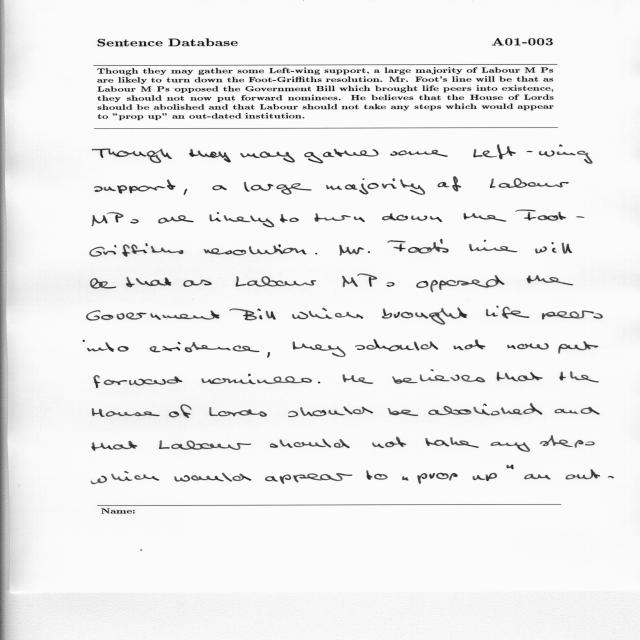word: (473, 145, 593, 164), (388, 240, 518, 254), (326, 178, 425, 195), (382, 307, 467, 325), (416, 275, 505, 292), (87, 310, 220, 321), (392, 369, 485, 384), (429, 404, 543, 416), (90, 243, 183, 257), (95, 179, 176, 194), (94, 375, 182, 388), (204, 244, 307, 255), (92, 149, 172, 163), (201, 374, 312, 384), (150, 342, 260, 352), (304, 149, 379, 163), (355, 340, 438, 352), (210, 212, 275, 227), (265, 473, 352, 484), (288, 406, 373, 417), (159, 440, 251, 450), (244, 182, 312, 195), (91, 471, 159, 484), (236, 276, 316, 287), (293, 341, 346, 357), (490, 178, 569, 188), (292, 308, 363, 319), (515, 210, 585, 221), (270, 439, 350, 448), (540, 435, 594, 448), (175, 473, 252, 482), (342, 274, 395, 287), (92, 212, 139, 226), (92, 408, 160, 417), (240, 152, 295, 163), (425, 437, 479, 448), (209, 407, 267, 417), (486, 306, 529, 319), (230, 309, 276, 321), (83, 340, 129, 352), (542, 311, 603, 320), (189, 149, 231, 162), (382, 213, 442, 222), (566, 469, 614, 480), (558, 341, 598, 354), (527, 275, 573, 285), (314, 213, 365, 222), (417, 473, 458, 484), (126, 277, 171, 287), (92, 441, 137, 451), (535, 242, 572, 254), (559, 372, 599, 383), (497, 372, 543, 381), (390, 150, 448, 157), (491, 442, 530, 452), (464, 213, 507, 222), (372, 437, 406, 448), (555, 407, 600, 415), (454, 340, 486, 351), (438, 177, 461, 192), (339, 245, 370, 256), (158, 215, 194, 224), (169, 404, 191, 418), (343, 374, 373, 384), (507, 343, 549, 350), (91, 278, 117, 289), (388, 408, 418, 416), (183, 279, 212, 287), (366, 470, 388, 480), (472, 473, 497, 481), (280, 214, 299, 223), (524, 474, 551, 479), (212, 185, 227, 190), (402, 476, 409, 481), (506, 465, 514, 469), (184, 189, 187, 195), (267, 352, 270, 358), (484, 240, 486, 242), (318, 382, 320, 384), (315, 253, 317, 254)
